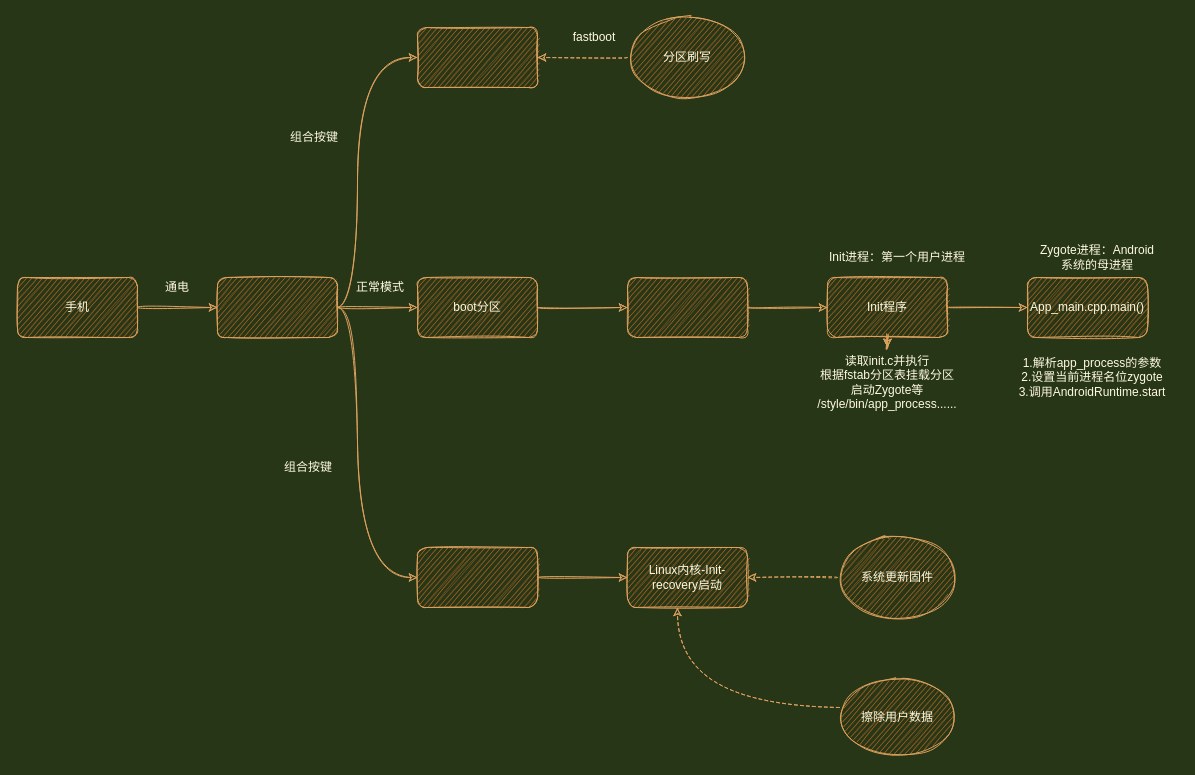
Some shapes in this 1195 by 775 pixel diagram are drawn without their labels. The box of each missing label's shape, as (x1, y1, x2, y2) in pixels:
bootloader分区: (216, 276, 338, 338)
bootloader模式: (416, 26, 538, 88)
linux内核: (626, 276, 748, 338)
recovery分区: (416, 546, 538, 608)
